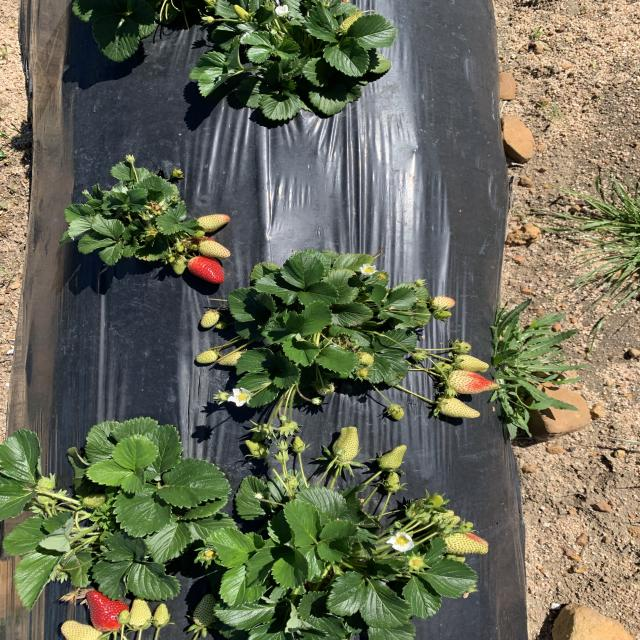unripe: (83, 590, 131, 633), (184, 253, 228, 285)
